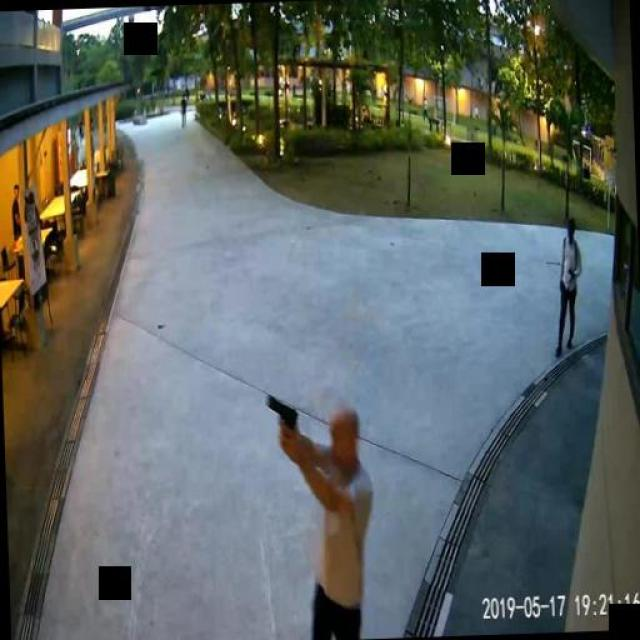gun: (264, 392, 298, 448)
